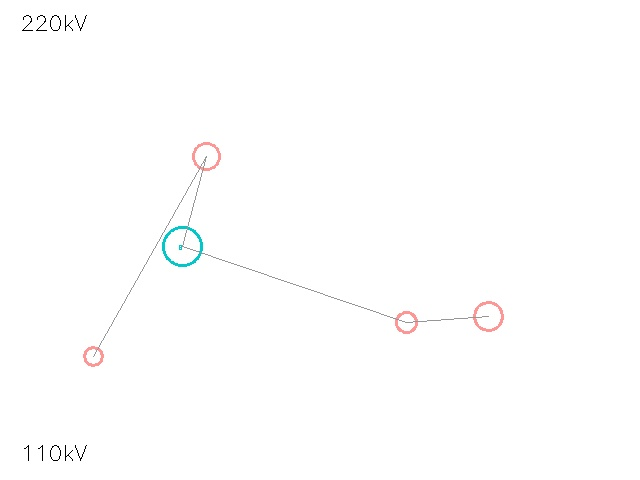current_transformer: (179, 129, 233, 183)
disconnect_switch: (74, 337, 112, 375)
feeder_terminal: (460, 288, 516, 344), (386, 302, 426, 342)
generator: (163, 227, 201, 265)
